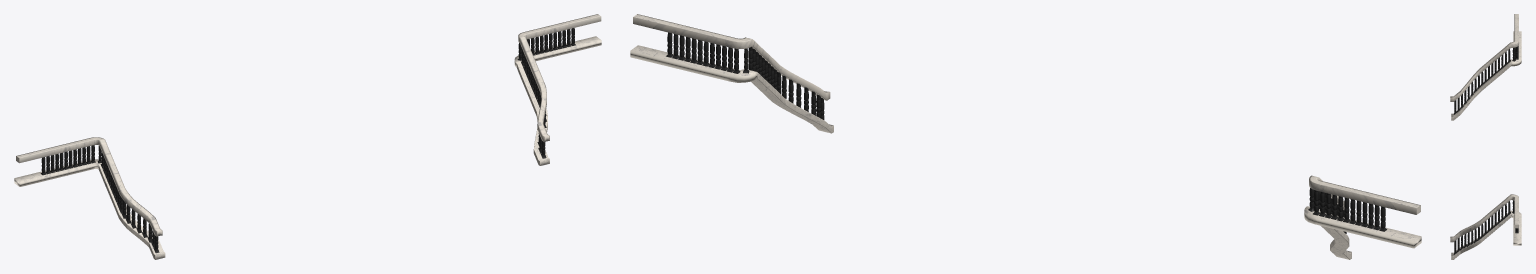
File: banister_stairs_right_reversed.fbx
The picture shows the model from 3 angles, left to right: view 1: azimuth 30°, elevation 25°; view 2: azimuth 150°, elevation 25°; view 3: azimuth 270°, elevation 25°; orthographic projection. The views are drawn at different scales.
Visible parts, largest first — view 1: banister_stairs_bottom2, banister_stairs_bottom1, pillar_banister_stairs1, pillar_banister_stairs; view 2: banister_stairs_bottom1, banister_stairs_bottom2, pillar_banister_stairs, pillar_banister_stairs1; view 3: banister_stairs_bottom1, banister_stairs_bottom2, pillar_banister_stairs1, pillar_banister_stairs.
Boxes of the visible parts, box(x1,y1,x2,y2) form: banister_stairs_bottom2: box(14, 137, 165, 259); banister_stairs_bottom1: box(514, 14, 601, 165); pillar_banister_stairs1: box(40, 145, 159, 253); pillar_banister_stairs: box(517, 28, 575, 158); banister_stairs_bottom1: box(630, 14, 833, 133); banister_stairs_bottom2: box(1304, 175, 1421, 259); pillar_banister_stairs: box(666, 32, 824, 119); pillar_banister_stairs1: box(1308, 188, 1386, 233); banister_stairs_bottom1: box(1450, 194, 1521, 259); banister_stairs_bottom2: box(1450, 14, 1521, 120); pillar_banister_stairs1: box(1453, 46, 1518, 114); pillar_banister_stairs: box(1453, 200, 1518, 255).
Bounding box in the file's own units: 60.18 × 9.24 × 8.64.
Materials: 2 (2 with a texture image).
